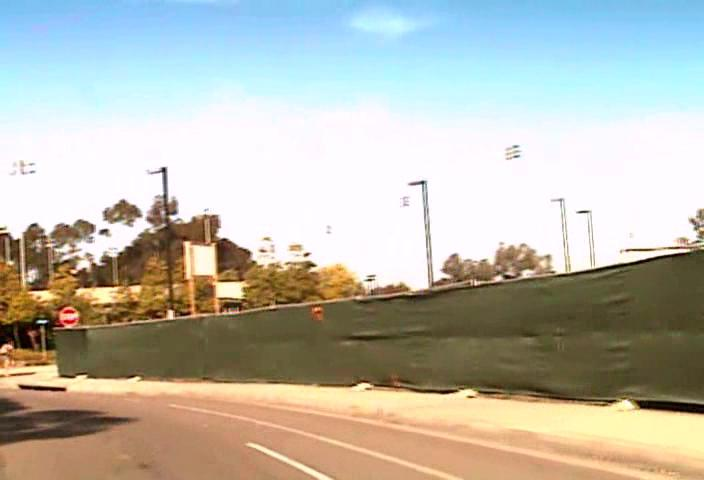stop: (59, 306, 79, 326)
